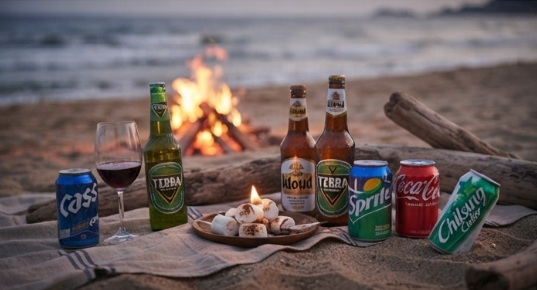beer-bottle: (314, 74, 357, 225), (145, 82, 188, 231), (278, 83, 318, 215)
beer-can: (54, 168, 102, 249)
